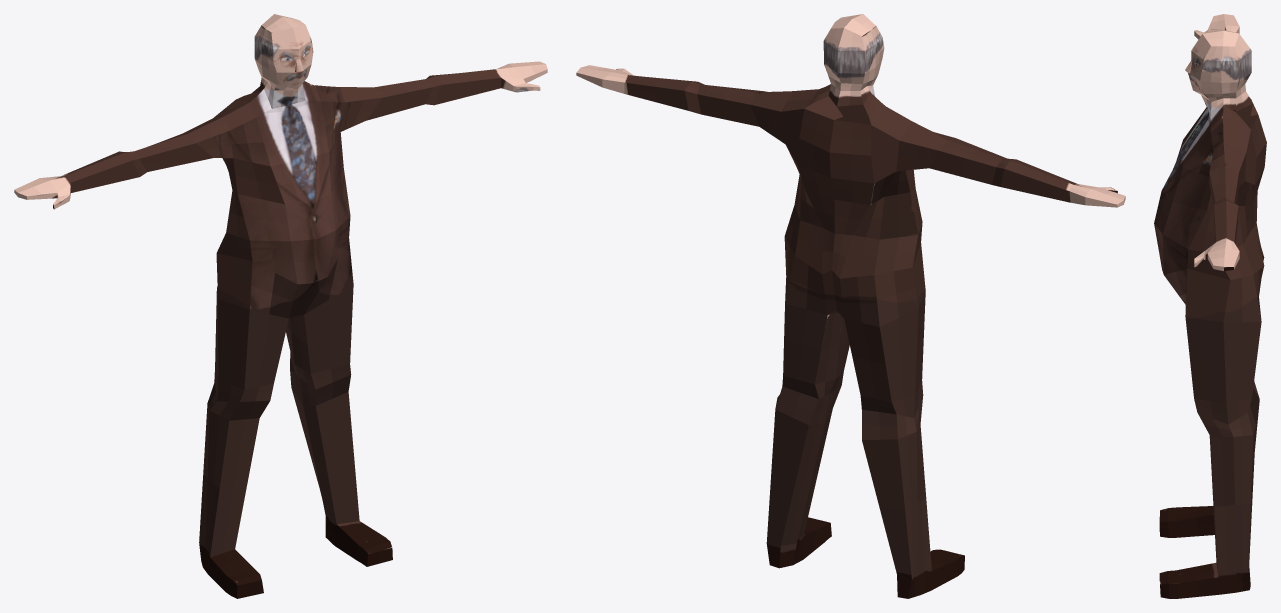
The model's file is szef.glb.
3 renders of one model, left to right at view 1: azimuth 30°, elevation 25°; view 2: azimuth 150°, elevation 25°; view 3: azimuth 270°, elevation 25°, orthographic. The views are drawn at different scales.
Parts seen in each view (by area): view 1: Cube; view 2: Cube; view 3: Cube.
Part boxes in pixels (x1,y1,x2,y2): Cube: (14,14,547,598); Cube: (576,14,1125,598); Cube: (1154,14,1266,598).
Bounding box in the file's own units: 4.42 × 4.32 × 0.8344.
1 material, 1 textured.
